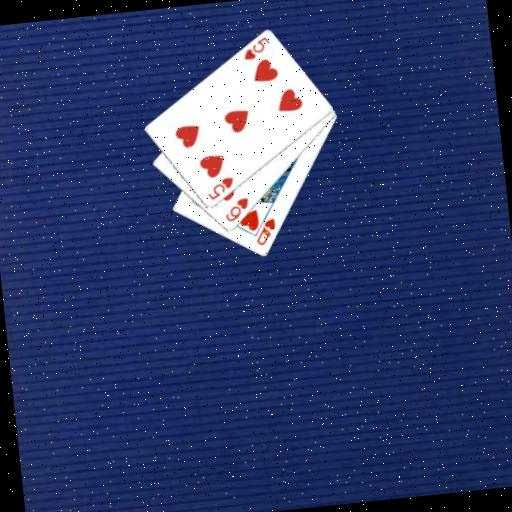5H: (203, 174, 237, 203), (239, 34, 273, 63)
6H: (221, 195, 252, 225)
QH: (251, 216, 279, 248)
